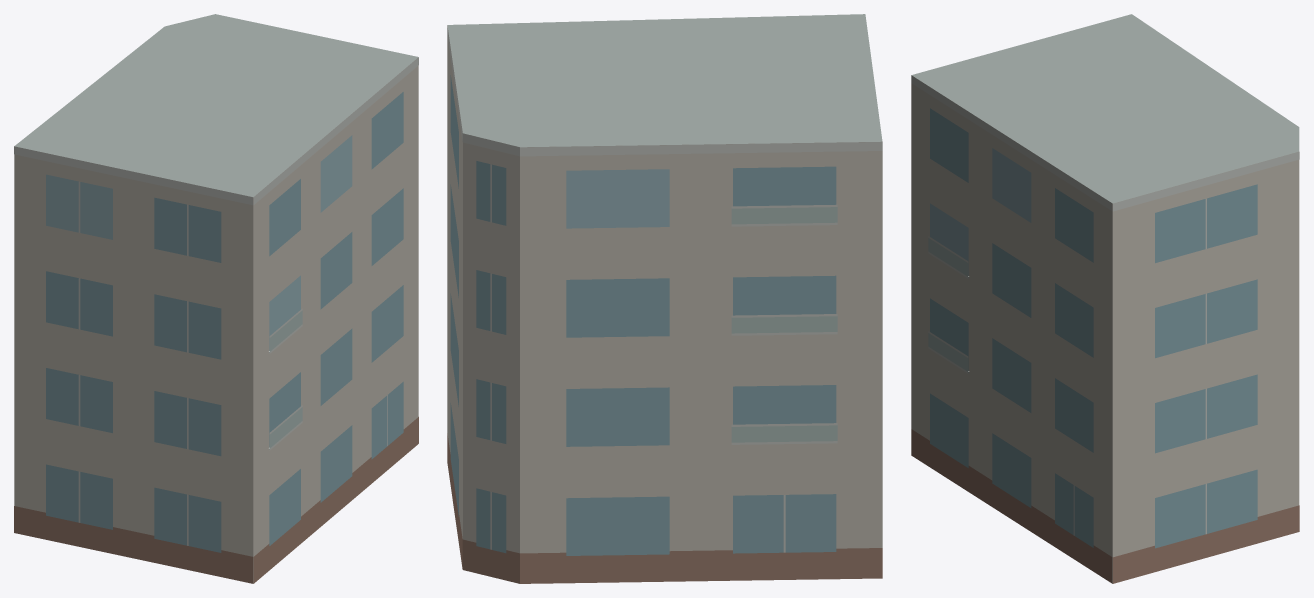
The model's file is survey-upis-32536456.glb.
3 views of the same model, side by side, from view 1: azimuth 30°, elevation 25°; view 2: azimuth 150°, elevation 25°; view 3: azimuth 270°, elevation 25° (orthographic). The views are drawn at different scales.
Parts seen in each view (by area): view 1: survey-upis-32536456.tmp; view 2: survey-upis-32536456.tmp; view 3: survey-upis-32536456.tmp.
Part boxes in pixels (box(x1,y1,x2,y2)): survey-upis-32536456.tmp: box(14, 14, 418, 583); survey-upis-32536456.tmp: box(447, 14, 882, 583); survey-upis-32536456.tmp: box(911, 14, 1299, 583).
Bounding box in the file's own units: 12.41 × 11.6 × 10.74.
